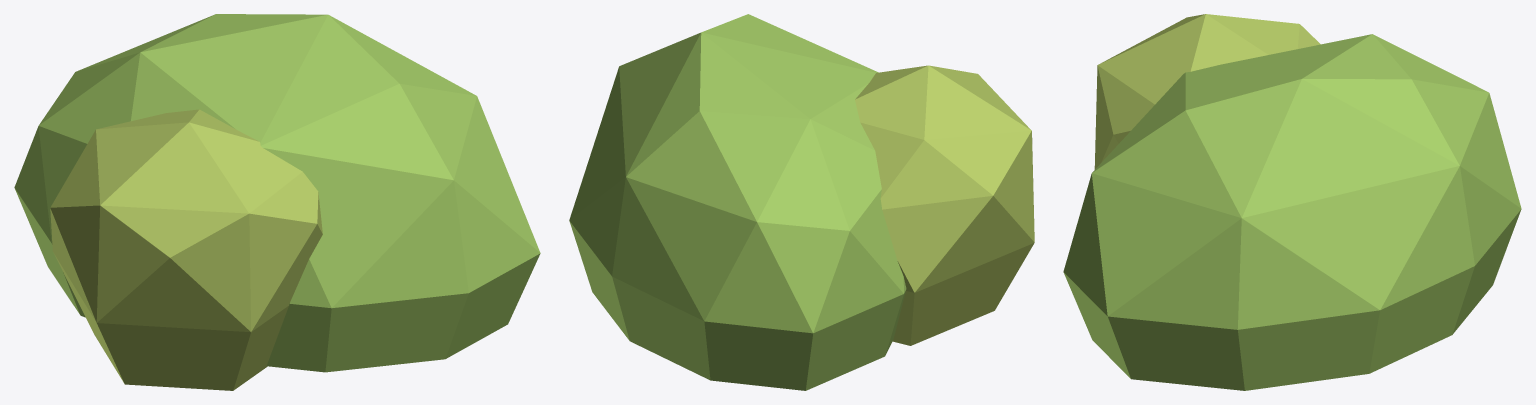
The model's file is Bush_e_m_02.fbx.
3 renders of one model, left to right at view 1: azimuth 30°, elevation 25°; view 2: azimuth 150°, elevation 25°; view 3: azimuth 270°, elevation 25°, orthographic. The views are drawn at different scales.
Visible parts, largest first — view 1: Bush_e_m_02; view 2: Bush_e_m_02; view 3: Bush_e_m_02.
Part boxes in pixels (left/top/right/bottom): Bush_e_m_02: left=14, top=14, right=540, bottom=390; Bush_e_m_02: left=569, top=14, right=1034, bottom=390; Bush_e_m_02: left=1063, top=14, right=1521, bottom=390.
Bounding box in the file's own units: 168 × 99.9 × 160.
